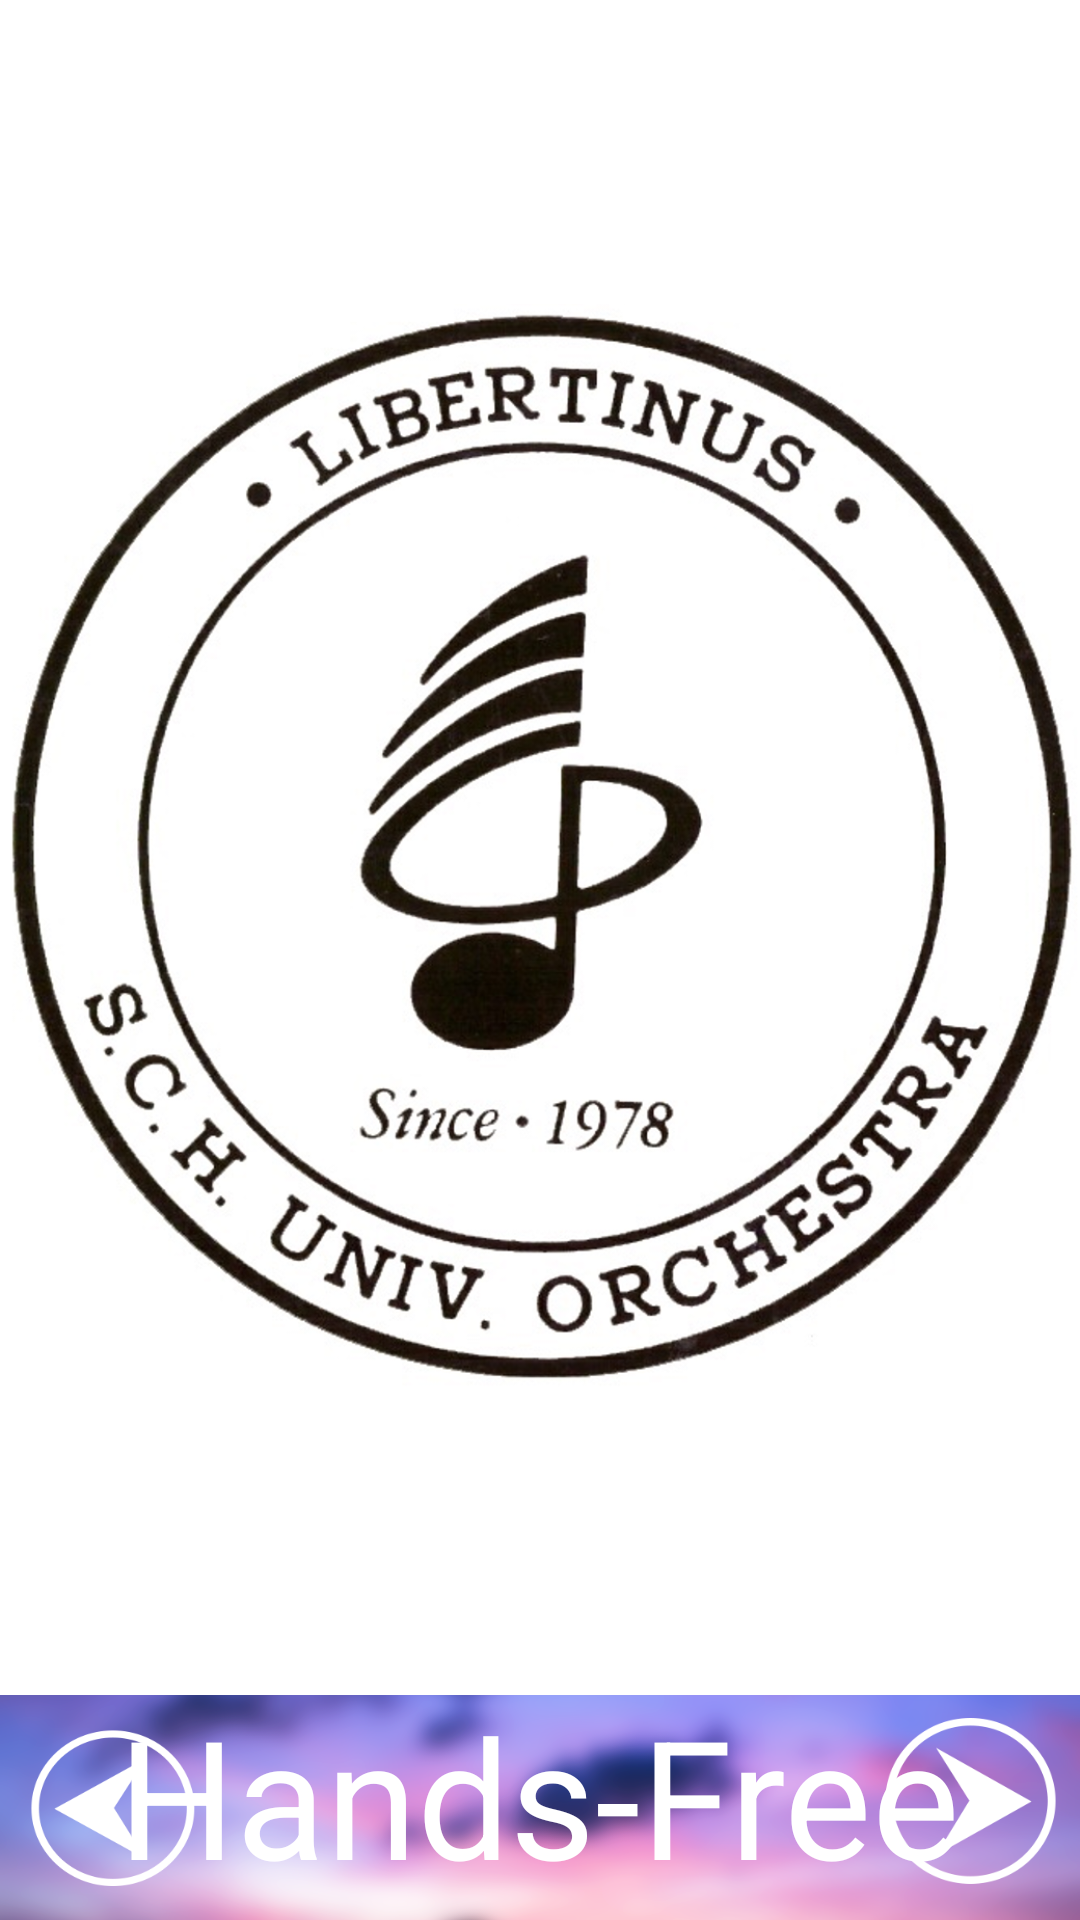

Named icons in this screenshot (1080w x 1920h) and their centers, point (x, y):
sheet activity leftdirection: point (112, 1807)
sheet activity rightdirection: point (967, 1807)
